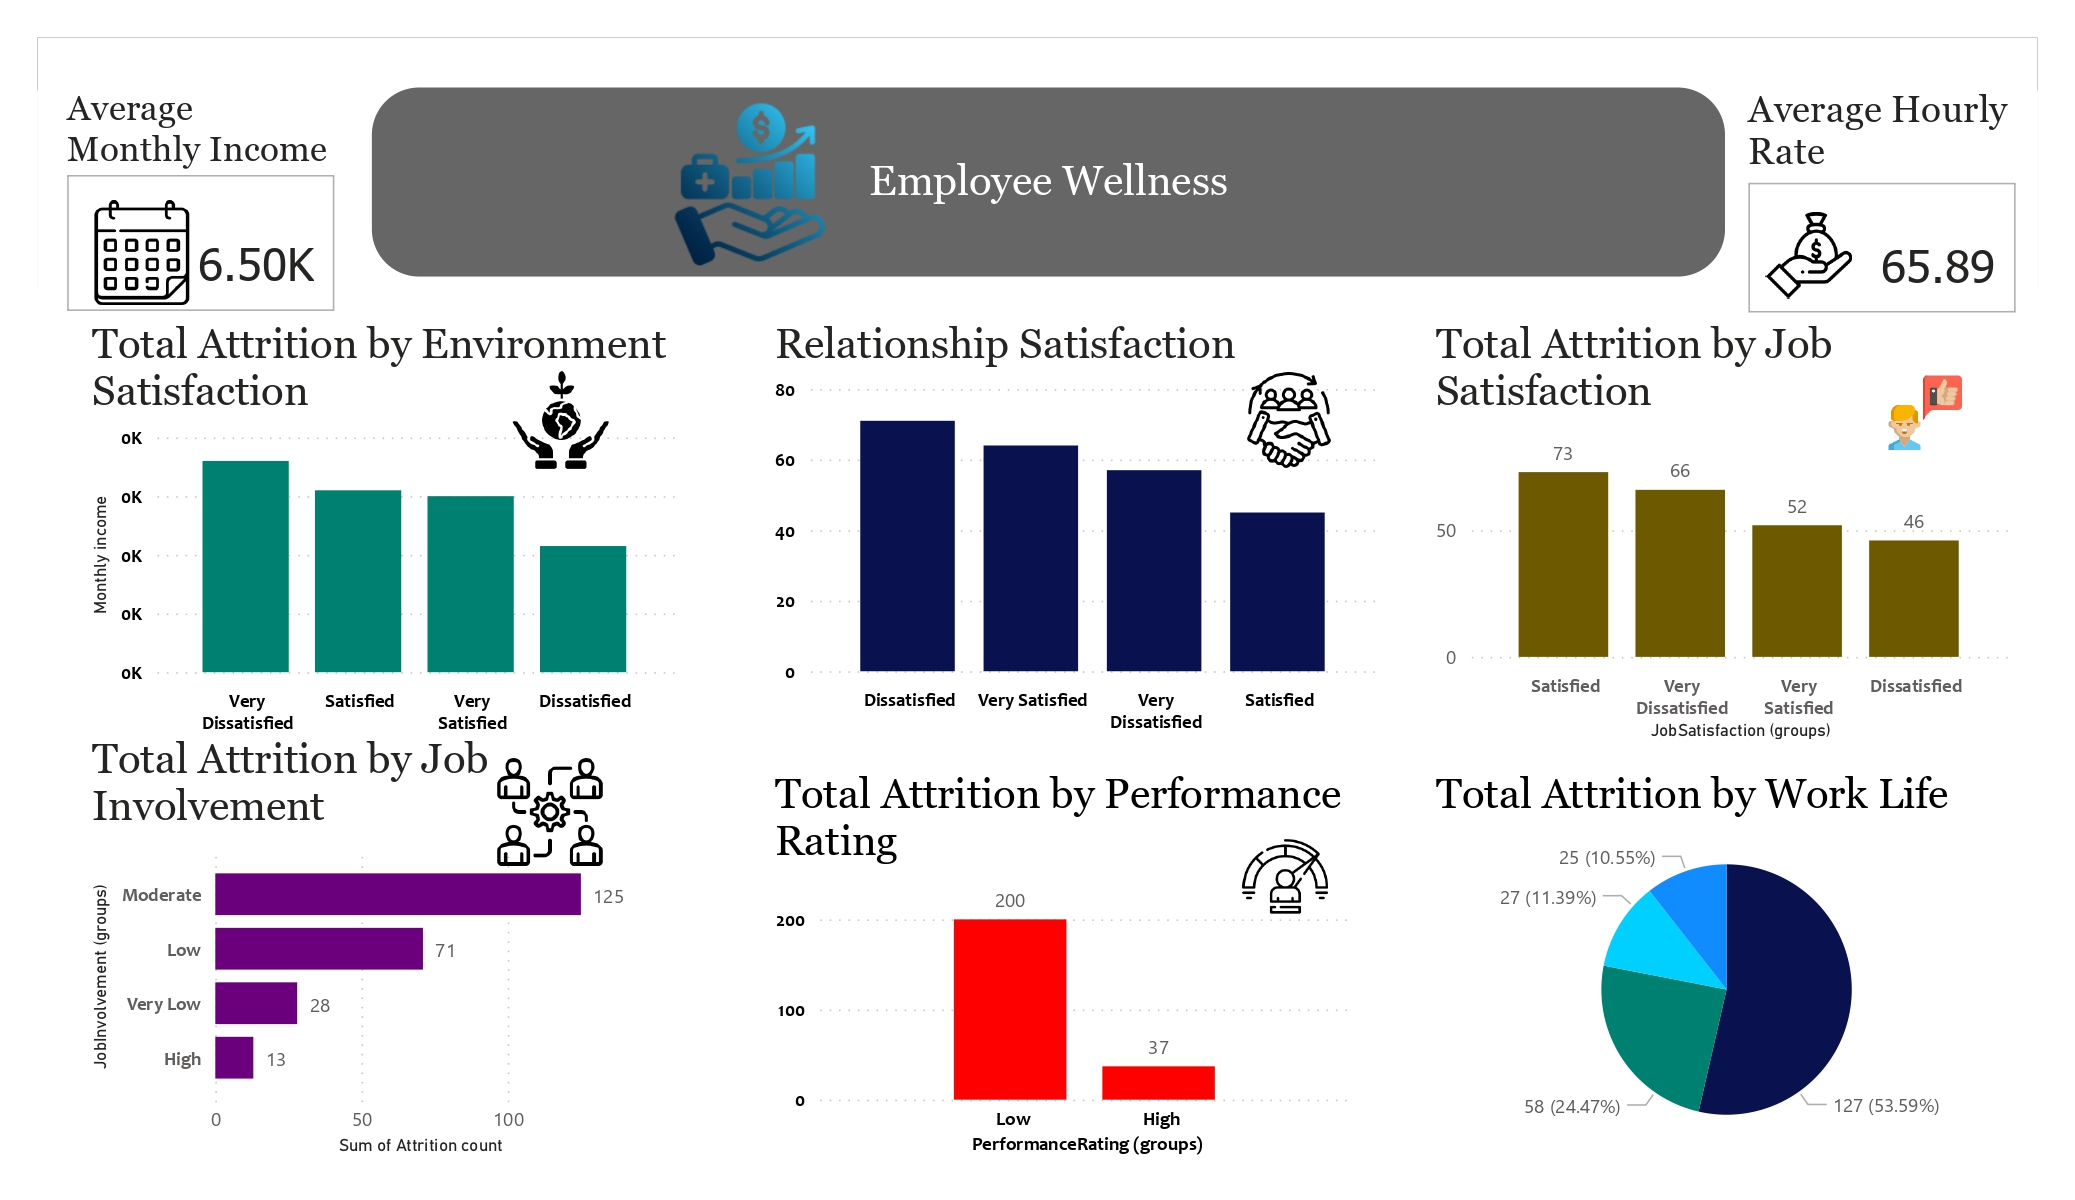

The dashboard page shown, as its layout file describes it:
{"tool":"powerbi","page":{"name":"Employee Wellness","canvas":[1280,720],"ordinal":3},"visuals":[{"type":"cardVisual","title":"Average Hourly Rate","fields":{"Data":["Avg(HR-Employee-Attrition.HourlyRate)"]},"box":[1090.3,31.8,181.2,149.4],"z":0,"group":"g1"},{"type":"pieChart","title":"Total Attrition by Work Life","fields":{"Y":["Sum(HR-Employee-Attrition.Attrition count)"],"Category":["HR-Employee-Attrition.WorkLifeBalance (groups)"]},"box":[890.1,468.9,381.5,251.1],"z":0},{"type":"group","id":"g1","title":"Group 1","box":[1090.3,31.8,181.2,149.4],"z":1000},{"type":"clusteredColumnChart","title":"Total Attrition by Environment Satisfaction","fields":{"Y":["Sum(HR-Employee-Attrition.Attrition count)"],"Category":["HR-Employee-Attrition.EnvironmentSatisfaction (groups)"]},"box":[30.2,181.2,383,273.4],"z":1000,"group":"g4"},{"type":"group","id":"g2","title":"Group 2","box":[14.3,31.8,181.2,149.4],"z":2000},{"type":"clusteredColumnChart","title":"Total Attrition by Job Satisfaction","fields":{"Category":["HR-Employee-Attrition.JobSatisfaction (groups)"],"Y":["Sum(HR-Employee-Attrition.Attrition count)"]},"box":[890.1,181.2,376.7,273.4],"z":2000,"group":"g6"},{"type":"group","id":"g3","title":"Group 3","box":[213.7,32.2,866.2,121],"z":3000},{"type":"clusteredColumnChart","title":"Relationship Satisfaction","fields":{"Y":["Sum(HR-Employee-Attrition.Attrition count)"],"Category":["HR-Employee-Attrition.RelationshipSatisfaction (groups)"]},"box":[467.3,181.2,395.8,273.4],"z":3000,"group":"g5"},{"type":"group","id":"g4","title":"Group 4","box":[30.2,181.2,383,273.4],"z":4000},{"type":"clusteredColumnChart","title":"Total Attrition by Performance Rating","fields":{"Y":["Sum(HR-Employee-Attrition.Attrition count)"],"Category":["HR-Employee-Attrition.PerformanceRating (groups)"]},"box":[467.3,468.9,381.5,251.1],"z":4000,"group":"g8"},{"type":"shape","box":[213.7,32.2,866.2,121],"z":5000,"group":"g3"},{"type":"group","id":"g5","title":"Group 5","box":[467.3,181.2,395.8,273.4],"z":5000},{"type":"group","id":"g6","title":"Group 6","box":[890.1,181.2,376.7,273.4],"z":6000},{"type":"clusteredBarChart","title":"Total Attrition by Job Involvement","fields":{"Y":["Sum(HR-Employee-Attrition.Attrition count)"],"Category":["HR-Employee-Attrition.JobInvolvement (groups)"]},"box":[30.2,446.6,362.4,273.4],"z":6000,"group":"g7"},{"type":"group","id":"g7","title":"Group 7","box":[30.2,446.6,362.4,273.4],"z":7000},{"type":"image","box":[364,35,184.4,117.6],"z":8000,"group":"g3"},{"type":"group","id":"g8","title":"Group 8","box":[467.3,468.9,381.5,251.1],"z":8000},{"type":"cardVisual","title":"Average Monthly Income","fields":{"Data":["Avg(HR-Employee-Attrition.MonthlyIncome)"]},"box":[14.3,31.8,181.2,149.4],"z":9000,"group":"g2"},{"type":"image","box":[28.6,93.8,76.3,87.4],"z":10000,"group":"g2"},{"type":"image","box":[1090.3,106.5,85.8,65.2],"z":11000,"group":"g1"},{"type":"image","box":[289.3,206.6,90.6,76.3],"z":11004,"group":"g4"},{"type":"image","box":[751.8,208.2,97,73.1],"z":11006,"group":"g5"},{"type":"image","box":[1176.2,206.6,63.6,66.8],"z":11008,"group":"g6"},{"type":"image","box":[275,454.5,104.9,81.1],"z":11010,"group":"g7"},{"type":"image","box":[751.8,503.9,92.2,65.2],"z":11012,"group":"g8"}]}

Visuals, with their boxes on the page's 1280x720 design canvas (x1, y1, x2, y2). These are canvas units, not pixel positions in the 2075x1200 screenshot, which may show the page scaled, cropped or inside an application window:
"Average Hourly Rate" cardVisual: <region>1090, 32, 1272, 181</region>
"Total Attrition by Work Life" pieChart: <region>890, 469, 1272, 720</region>
"Group 1" group: <region>1090, 32, 1272, 181</region>
"Total Attrition by Environment Satisfaction" clusteredColumnChart: <region>30, 181, 413, 455</region>
"Group 2" group: <region>14, 32, 196, 181</region>
"Total Attrition by Job Satisfaction" clusteredColumnChart: <region>890, 181, 1267, 455</region>
"Group 3" group: <region>214, 32, 1080, 153</region>
"Relationship Satisfaction" clusteredColumnChart: <region>467, 181, 863, 455</region>
"Group 4" group: <region>30, 181, 413, 455</region>
"Total Attrition by Performance Rating" clusteredColumnChart: <region>467, 469, 849, 720</region>
shape: <region>214, 32, 1080, 153</region>
"Group 5" group: <region>467, 181, 863, 455</region>
"Group 6" group: <region>890, 181, 1267, 455</region>
"Total Attrition by Job Involvement" clusteredBarChart: <region>30, 447, 393, 720</region>
"Group 7" group: <region>30, 447, 393, 720</region>
image: <region>364, 35, 548, 153</region>
"Group 8" group: <region>467, 469, 849, 720</region>
"Average Monthly Income" cardVisual: <region>14, 32, 196, 181</region>
image: <region>29, 94, 105, 181</region>
image: <region>1090, 106, 1176, 172</region>
image: <region>289, 207, 380, 283</region>
image: <region>752, 208, 849, 281</region>
image: <region>1176, 207, 1240, 273</region>
image: <region>275, 454, 380, 536</region>
image: <region>752, 504, 844, 569</region>
